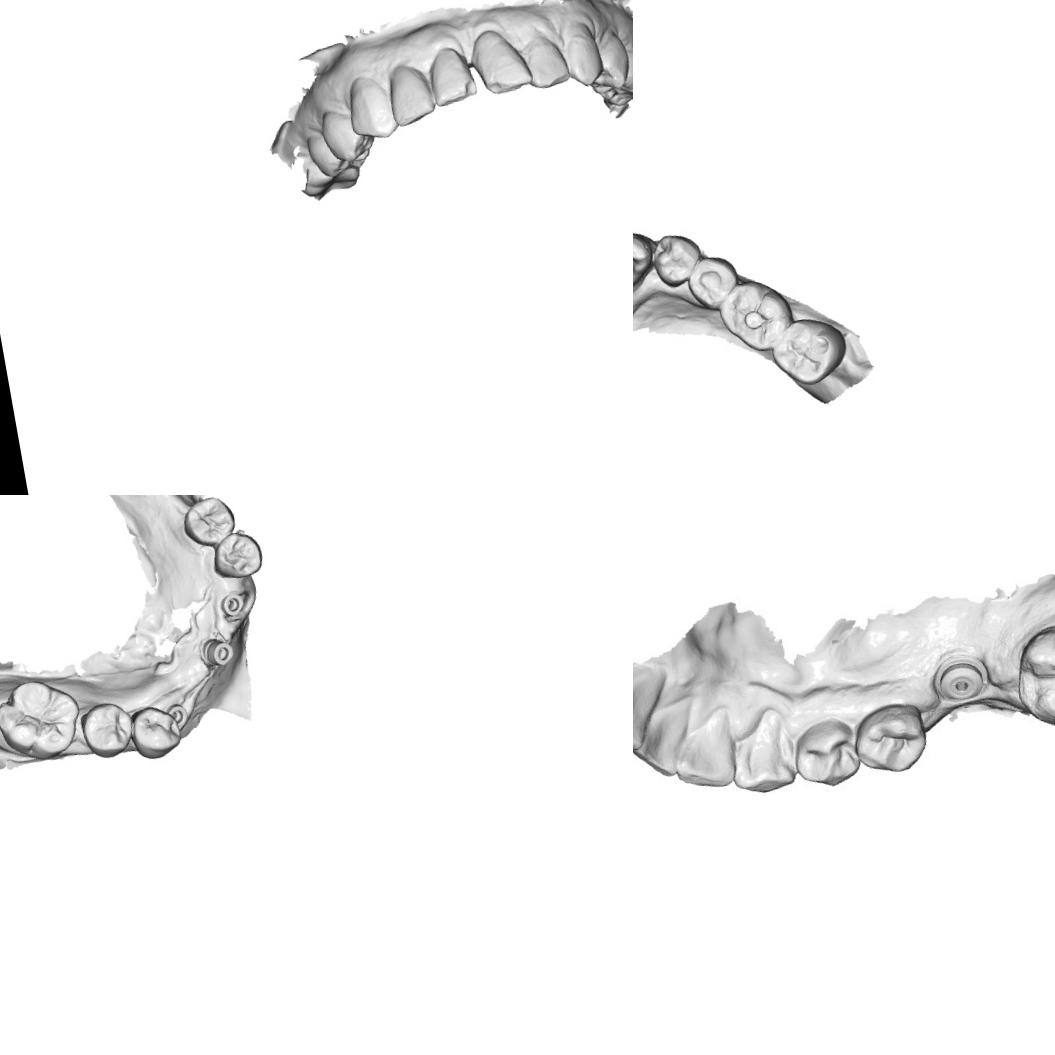canine: (721, 702, 798, 798), (343, 70, 403, 144), (558, 25, 607, 90), (633, 222, 661, 292)
implant: (917, 632, 1005, 722), (198, 634, 236, 670), (217, 590, 247, 620), (165, 699, 190, 729)
incisor: (667, 696, 745, 788), (464, 20, 536, 100), (633, 690, 694, 770), (382, 60, 438, 129), (423, 40, 479, 109), (519, 25, 573, 93), (633, 653, 673, 744)
molar: (0, 671, 87, 767), (713, 271, 799, 358), (764, 310, 854, 392), (1005, 607, 1055, 747)
premolar: (847, 692, 933, 785), (788, 712, 863, 790), (682, 249, 745, 315), (76, 696, 138, 762), (646, 226, 706, 292), (316, 104, 375, 165), (126, 700, 184, 762), (176, 495, 239, 551), (584, 28, 633, 96), (206, 527, 266, 582), (306, 130, 342, 176), (607, 42, 633, 99)
